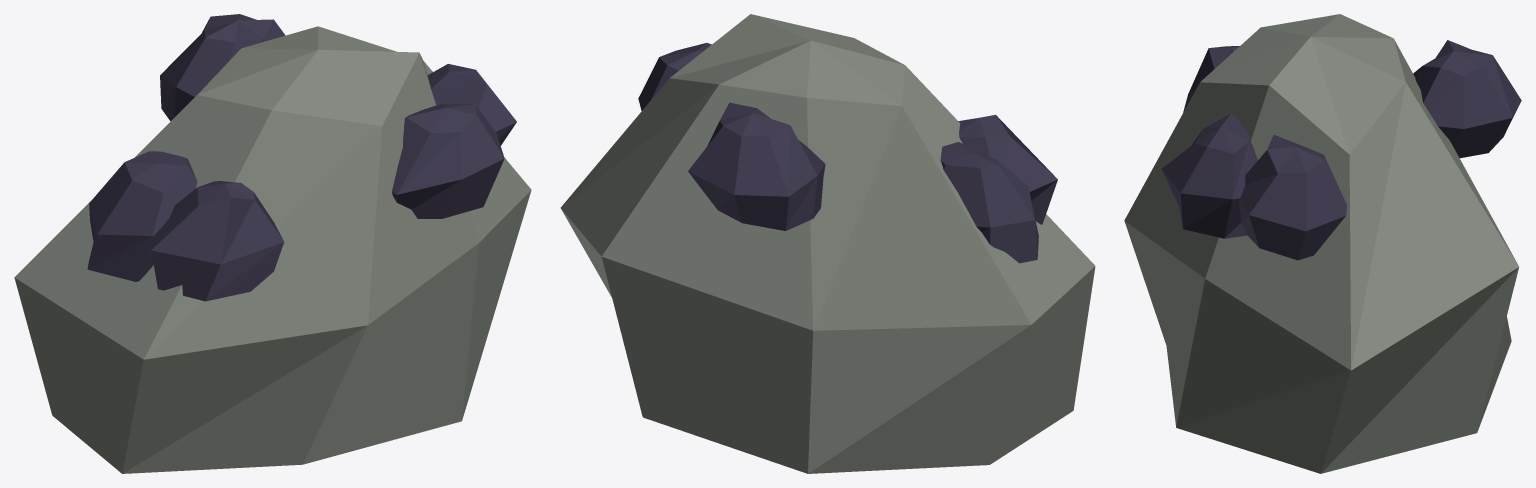
The model's file is obsidian_node.glb.
3 renders of one model, left to right at view 1: azimuth 30°, elevation 25°; view 2: azimuth 150°, elevation 25°; view 3: azimuth 270°, elevation 25°, orthographic. The views are drawn at different scales.
Parts seen in each view (by area): view 1: obsidian_node; view 2: obsidian_node; view 3: obsidian_node.
Part boxes in pixels (bbox=[...]): obsidian_node: bbox=[14, 14, 531, 473]; obsidian_node: bbox=[560, 14, 1095, 473]; obsidian_node: bbox=[1124, 14, 1521, 473].
Size of the model in its own units: 1.89 by 1.25 by 1.28.
